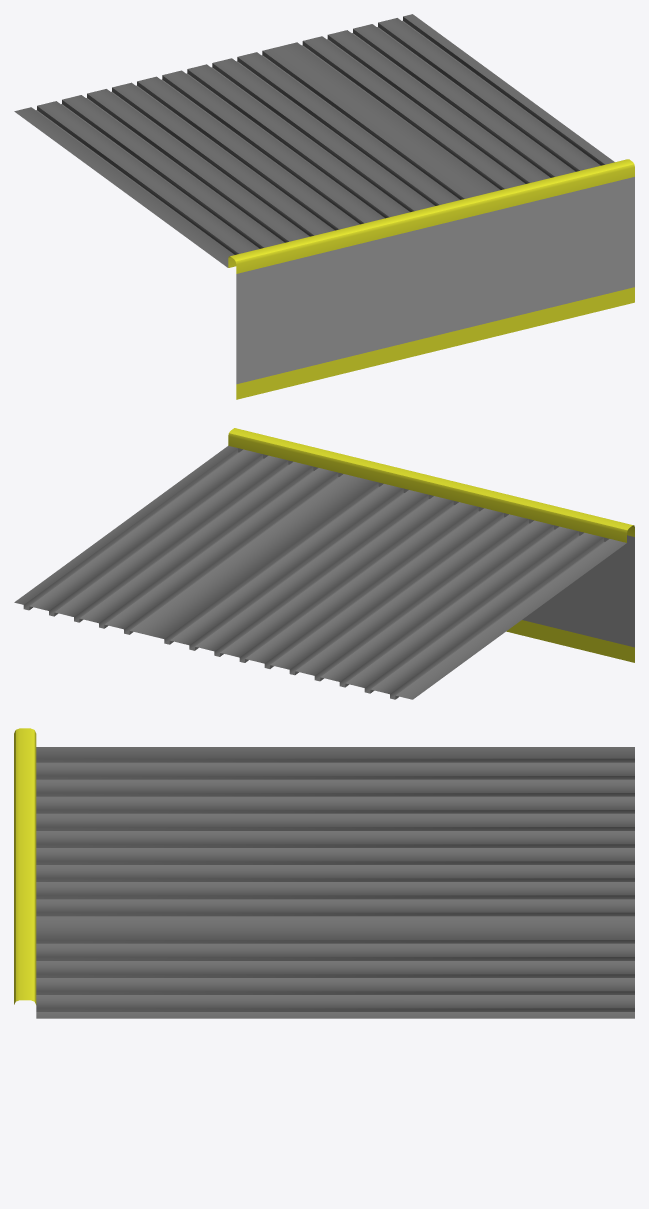
The model's file is SplitConveyorSegment.fbx.
3 views of the same model, one above another, from view 1: azimuth 30°, elevation 25°; view 2: azimuth 150°, elevation 25°; view 3: azimuth 270°, elevation 25° (orthographic). The views are drawn at different scales.
Visible parts, largest first — view 1: SplitConveyorSegment; view 2: SplitConveyorSegment; view 3: SplitConveyorSegment.
Part boxes in pixels (x1,y1,x2,y2): SplitConveyorSegment: [14, 14, 634, 399]; SplitConveyorSegment: [14, 428, 634, 699]; SplitConveyorSegment: [14, 728, 634, 1018].
Size of the model in its own units: 300 by 100 by 290.
